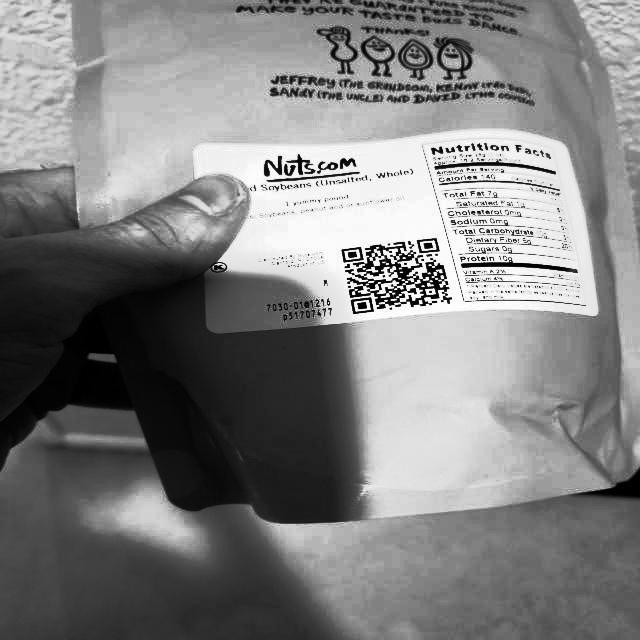qr_code: (333, 233, 463, 319)
